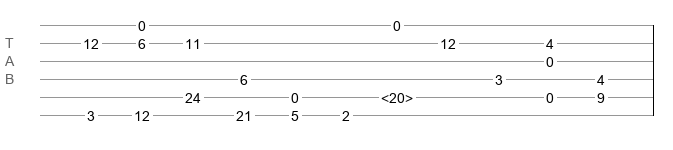0: (138, 18, 146, 28), (291, 90, 299, 100), (393, 18, 401, 28), (546, 54, 554, 64), (546, 90, 554, 100)
11: (185, 36, 201, 46)
12: (83, 36, 99, 46), (134, 108, 150, 118), (440, 36, 456, 46)
2: (342, 108, 350, 118)
21: (236, 108, 252, 118)
24: (185, 90, 201, 100)
3: (87, 108, 95, 118), (495, 72, 503, 82)
4: (546, 36, 554, 46), (597, 72, 605, 82)
5: (291, 108, 299, 118)
6: (138, 36, 146, 46), (240, 72, 248, 82)
9: (597, 90, 605, 100)
harmonic: (381, 90, 413, 100)
